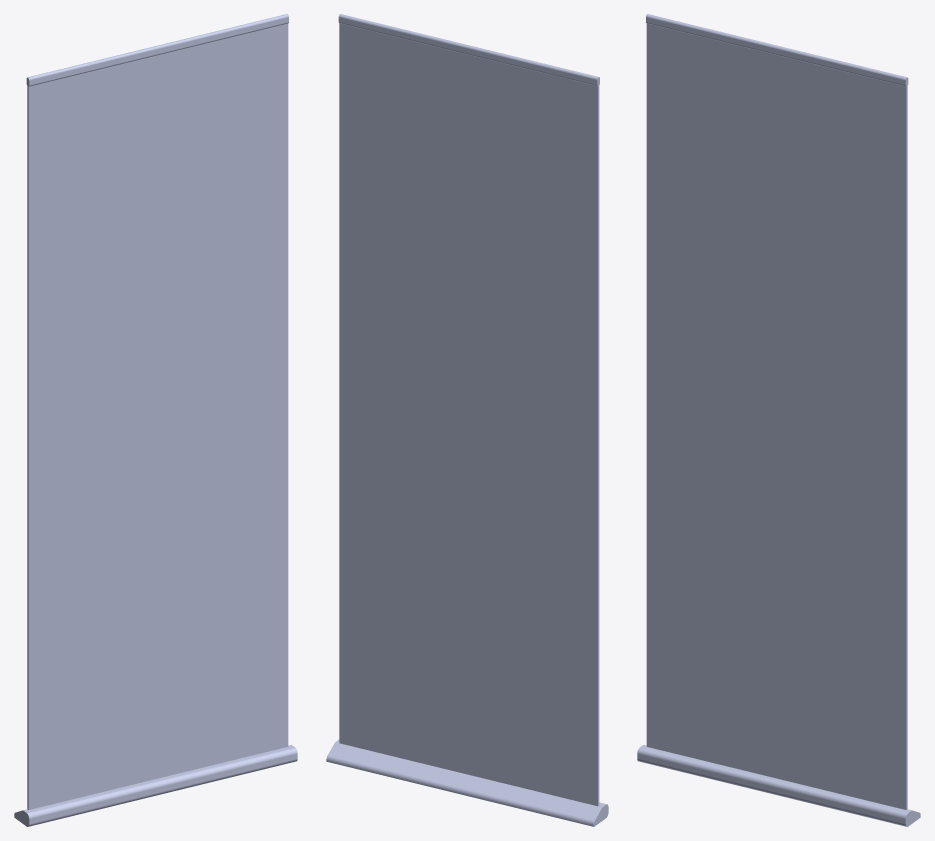
Rendered from DisplayBanner.fbx.
The picture shows the model from 3 angles, left to right: view 1: azimuth 30°, elevation 25°; view 2: azimuth 150°, elevation 25°; view 3: azimuth 330°, elevation 25°; orthographic projection.
Parts seen in each view (by area): view 1: Part; view 2: Part; view 3: Part.
Part boxes in pixels (left/top/right/bottom): Part: left=14, top=14, right=297, bottom=826; Part: left=326, top=14, right=608, bottom=826; Part: left=637, top=14, right=920, bottom=826.
Size of the model in its own units: 62 by 164 by 6.
